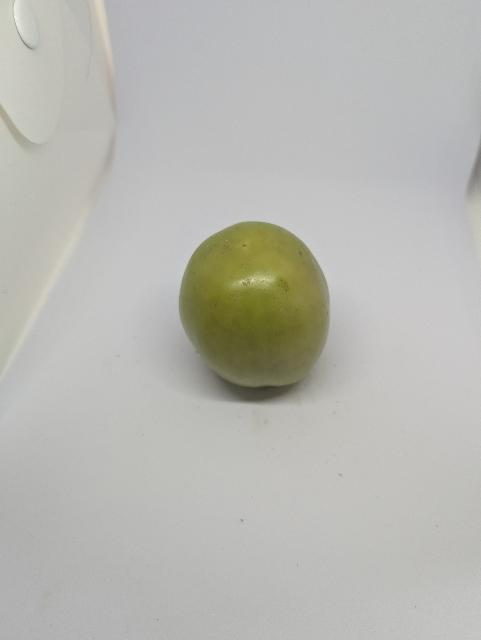green: (161, 208, 338, 398)
